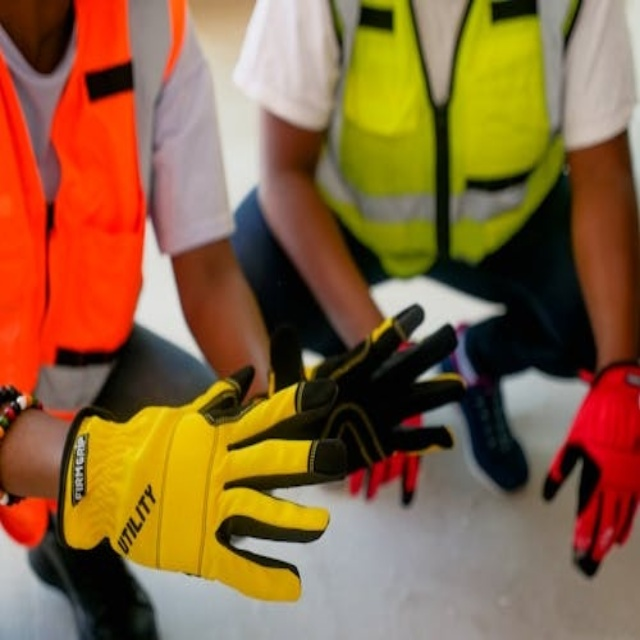Guantes: (67, 314, 337, 608), (338, 295, 479, 488), (536, 348, 640, 585)
